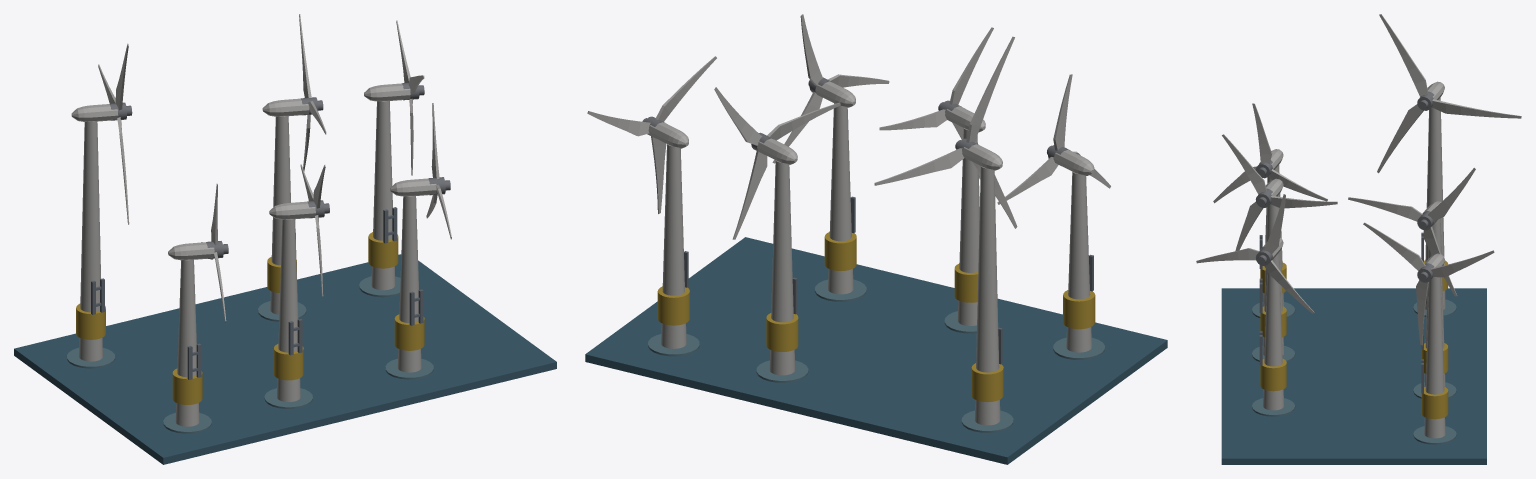
The model's file is offshore_wind_farm_lvl3.glb.
3 renders of one model, left to right at view 1: azimuth 30°, elevation 25°; view 2: azimuth 150°, elevation 25°; view 3: azimuth 270°, elevation 25°, orthographic. The views are drawn at different scales.
Parts seen in each view (by area): view 1: offshore_wind_farm; view 2: offshore_wind_farm; view 3: offshore_wind_farm.
Boxes of the visible parts, x1,y1,x2,y2 form: offshore_wind_farm: (14,14,556,464); offshore_wind_farm: (585,14,1167,464); offshore_wind_farm: (1196,14,1521,464).
Bounding box in the file's own units: 1 × 0.8308 × 0.8058.
